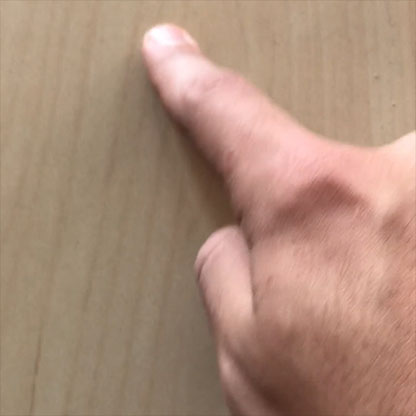fingertip: (127, 17, 206, 63)
